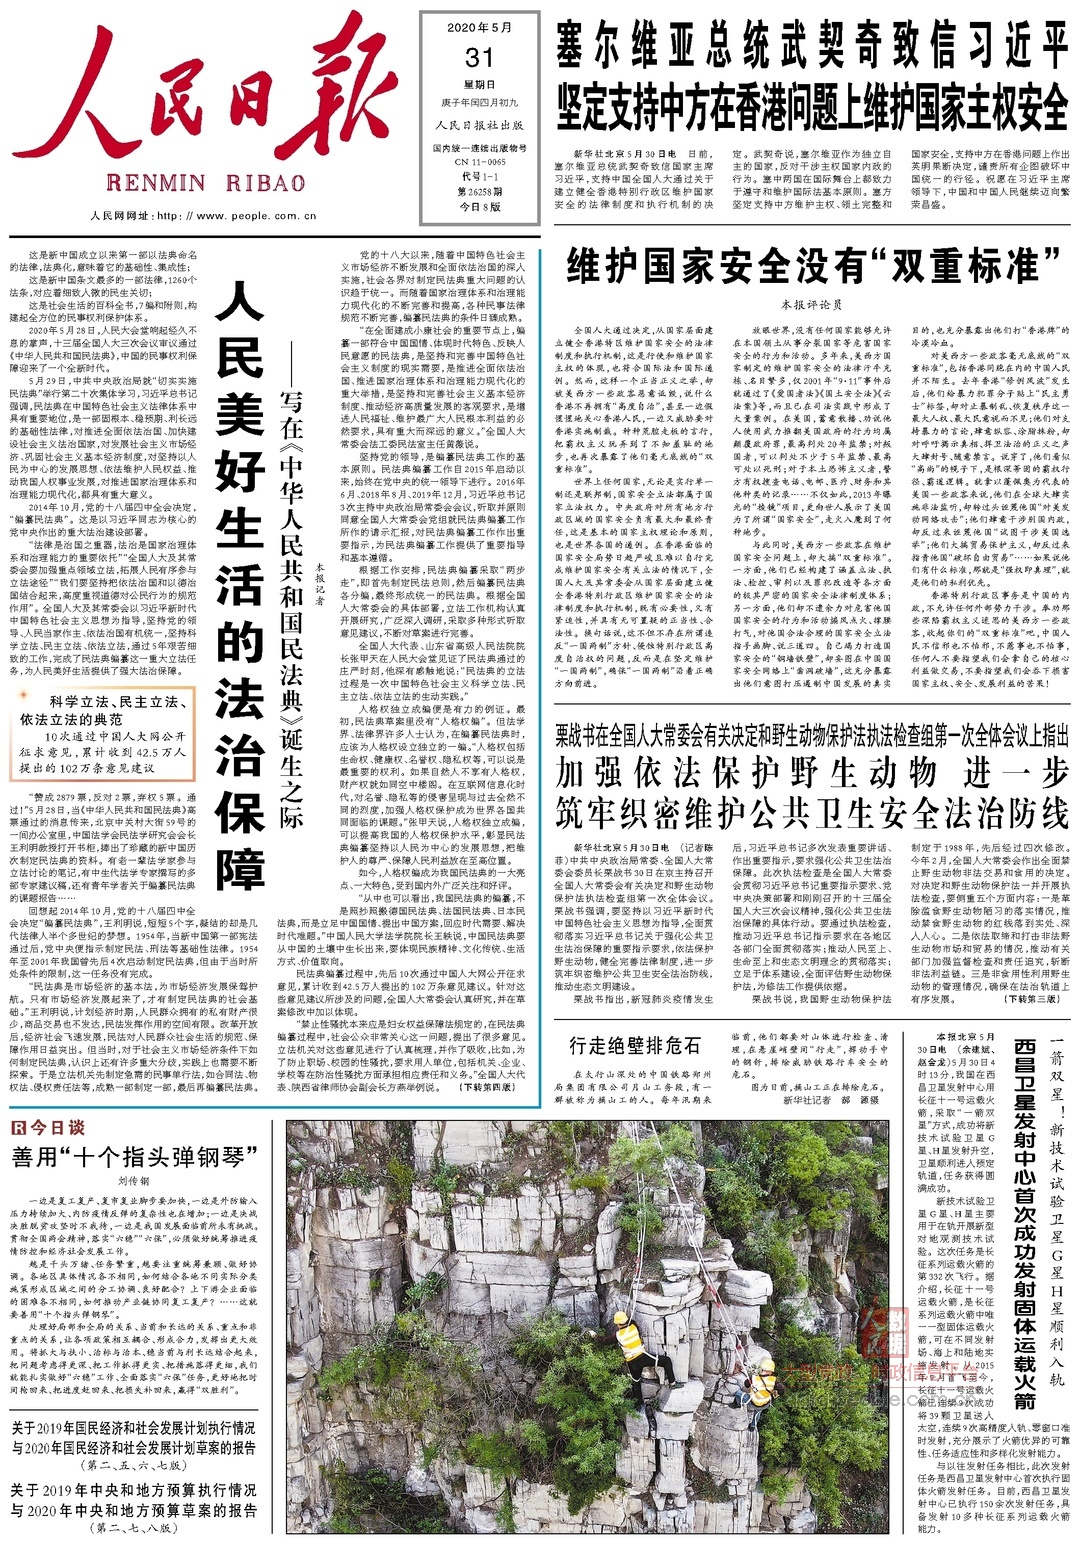pic: (281, 1114, 895, 1539)
